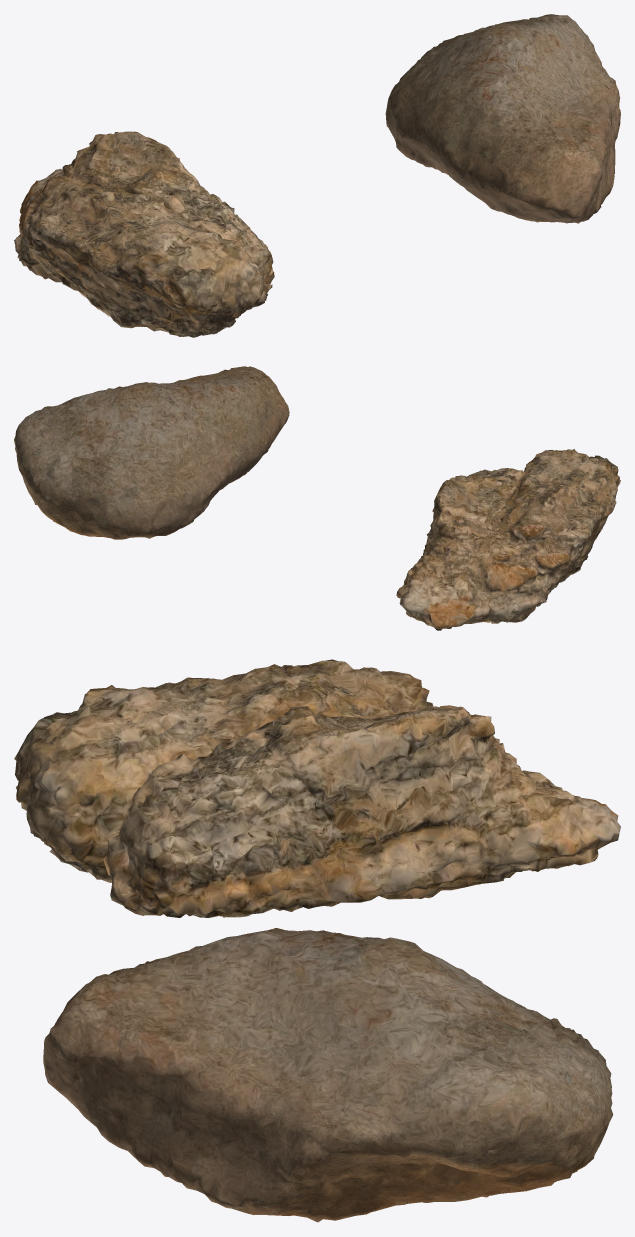
File: namaqualand-boulders-01.glb
3 renders of one model, top to bottom at view 1: azimuth 30°, elevation 25°; view 2: azimuth 150°, elevation 25°; view 3: azimuth 270°, elevation 25°, orthographic. The views are drawn at different scales.
Parts seen in each view (by area): view 1: namaqualand_boulders_01; view 2: namaqualand_boulders_01; view 3: namaqualand_boulders_01.
Boxes of the visible parts, box(x1,y1,x2,y2) form: namaqualand_boulders_01: box(14, 14, 620, 337); namaqualand_boulders_01: box(14, 366, 620, 630); namaqualand_boulders_01: box(14, 659, 620, 1222).
Size of the model in its own units: 1.06 by 0.2515 by 0.5867.
1 material, 1 textured.
